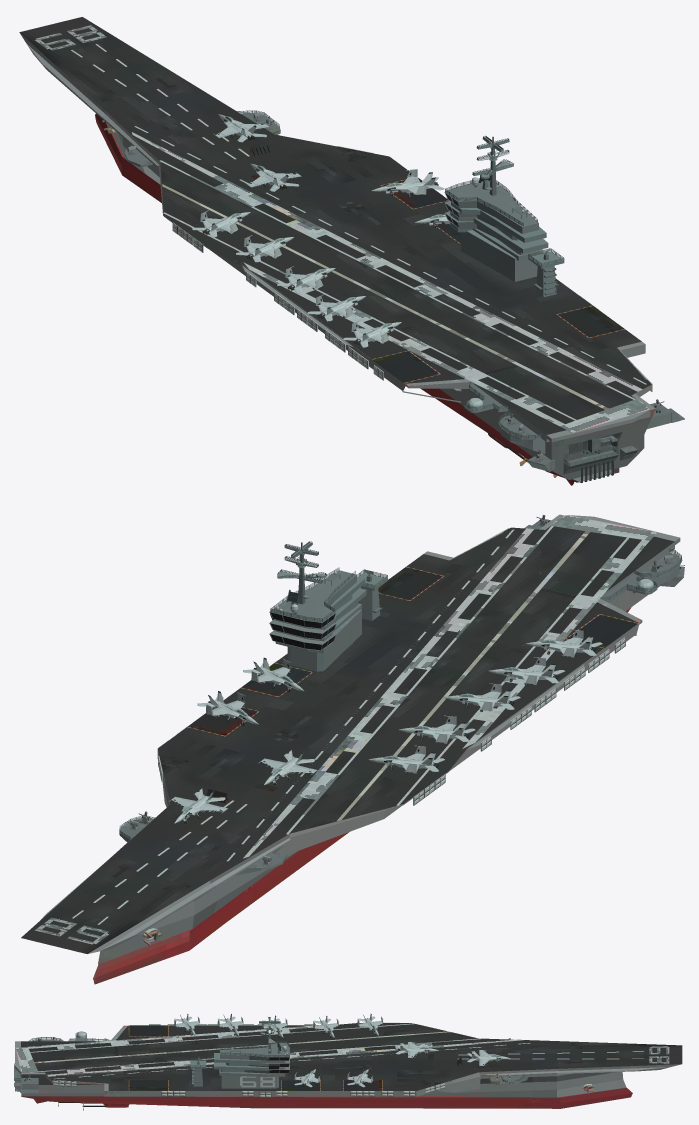
File: military-transformed.glb
3 views of the same model, one above another, from view 1: azimuth 30°, elevation 25°; view 2: azimuth 150°, elevation 25°; view 3: azimuth 270°, elevation 25° (orthographic). The views are drawn at different scales.
Parts seen in each view (by area): view 1: Object_53, Object_57, Object_58, Object_59, Object_35, Object_62, Object_56, Object_54, Object_63; view 2: Object_53, Object_57, Object_58, Object_35, Object_59, Object_62, Object_56, Object_54, Object_63, Object_60, Object_86; view 3: Object_53, Object_58, Object_57, Object_59, Object_35, Object_54, Object_62, Object_56, Object_63, Object_61, Object_86, Object_88 (+1 smaller).
Boxes of the visible parts, <box> form: Object_53: <box>20,17,651,434</box>; Object_57: <box>71,44,649,432</box>; Object_58: <box>19,24,655,482</box>; Object_59: <box>444,180,564,297</box>; Object_35: <box>192,114,453,347</box>; Object_62: <box>124,112,684,482</box>; Object_56: <box>236,110,618,466</box>; Object_54: <box>172,146,652,391</box>; Object_63: <box>467,136,660,454</box>; Object_53: <box>21,526,674,953</box>; Object_57: <box>72,515,656,924</box>; Object_58: <box>41,514,680,984</box>; Object_35: <box>169,629,602,823</box>; Object_59: <box>269,570,388,671</box>; Object_62: <box>119,519,684,875</box>; Object_56: <box>119,541,681,838</box>; Object_54: <box>158,528,625,805</box>; Object_63: <box>276,520,653,614</box>; Object_60: <box>270,612,335,650</box>; Object_86: <box>35,917,109,944</box>; Object_53: <box>21,1023,682,1090</box>; Object_58: <box>15,1025,680,1108</box>; Object_57: <box>15,1023,643,1090</box>; Object_59: <box>190,1043,289,1088</box>; Object_35: <box>174,1014,510,1087</box>; Object_54: <box>53,1022,444,1097</box>; Object_62: <box>14,1034,528,1093</box>; Object_56: <box>14,1017,524,1084</box>; Object_63: <box>20,1018,287,1084</box>; Object_61: <box>34,1076,594,1110</box>; Object_86: <box>637,1046,669,1063</box>; Object_88: <box>240,1076,275,1087</box>.
Bounding box in the file's own units: 3.38 × 2.53 × 13.51.
16 materials, 15 textured.
